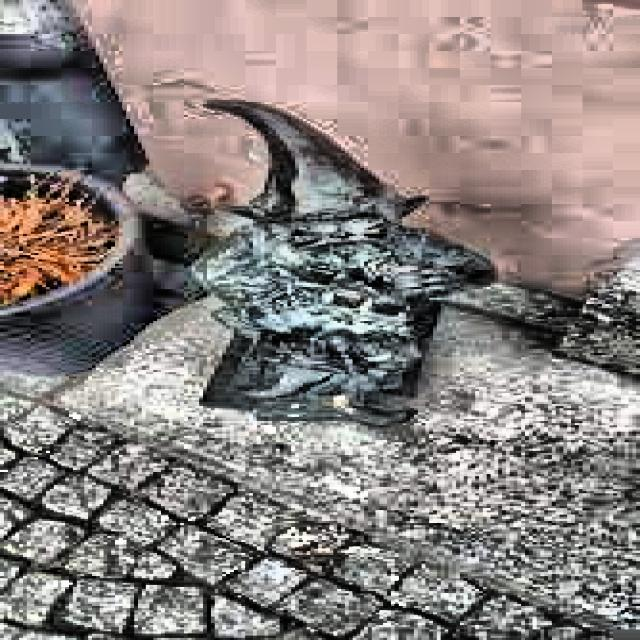Wedelek: (194, 101, 491, 426)
